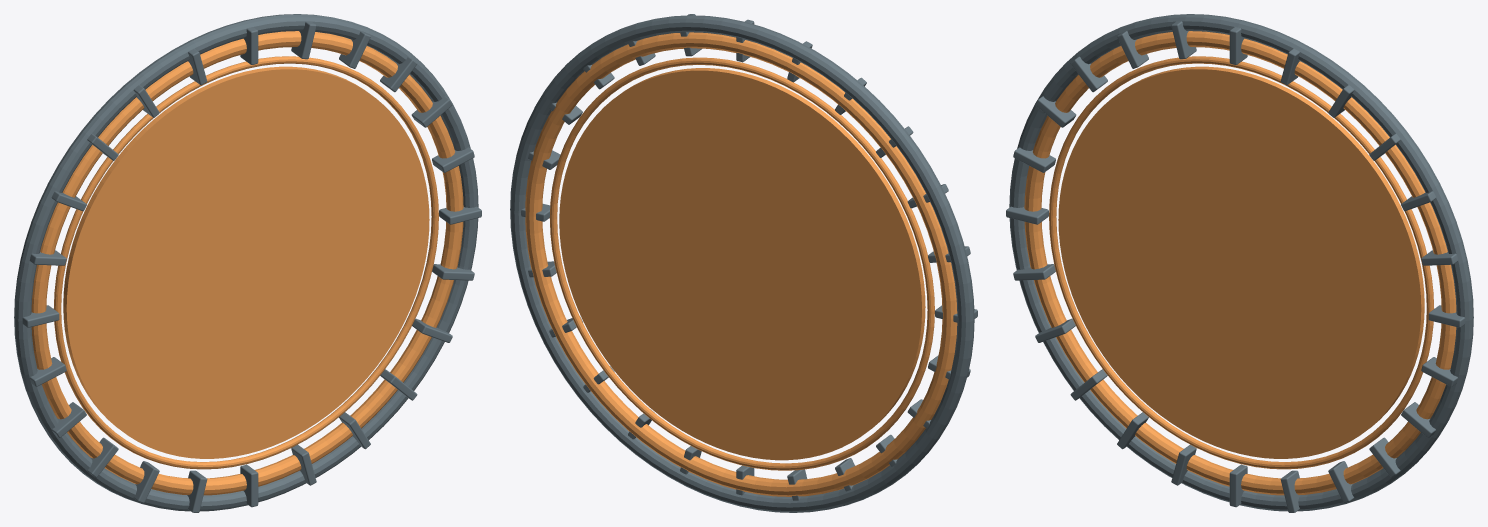
File: reactor.fbx
3 renders of one model, left to right at view 1: azimuth 30°, elevation 25°; view 2: azimuth 150°, elevation 25°; view 3: azimuth 330°, elevation 25°, orthographic.
Visible parts, largest first — view 1: reactor; view 2: reactor; view 3: reactor.
Part boxes in pixels (x1,y1,x2,y2): reactor: (14,14,481,512); reactor: (510,14,977,512); reactor: (1006,14,1473,512).
Bounding box in the file's own units: 930 × 45 × 930.
